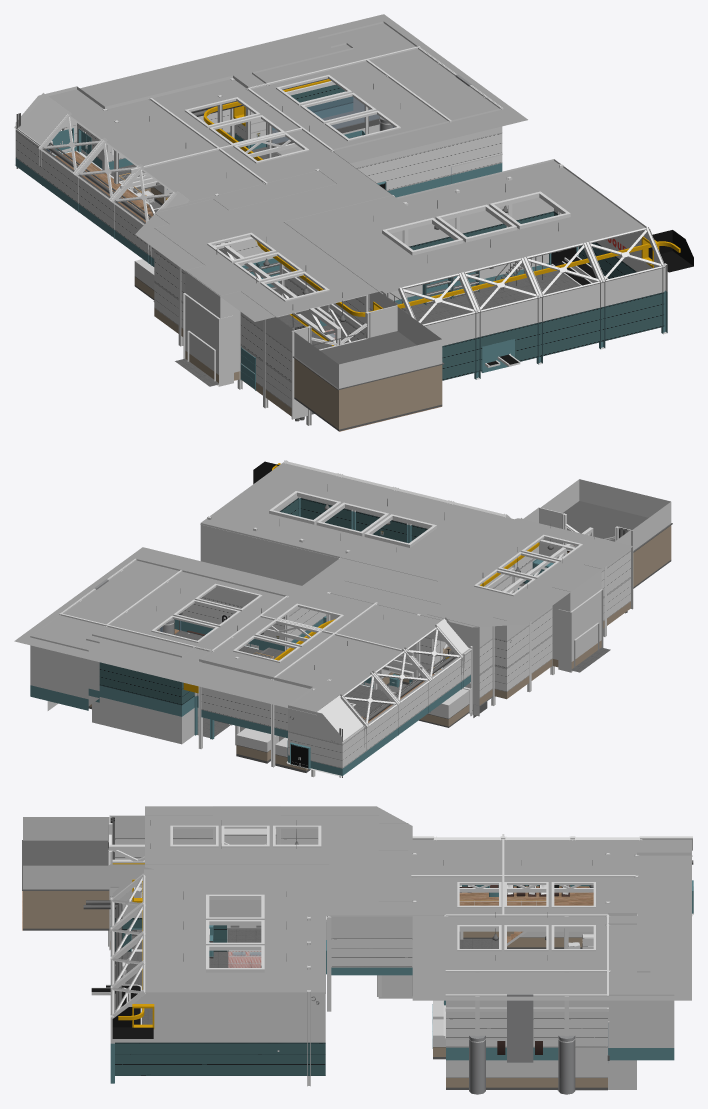
Rendered from Factory5.glb.
3 views of the same model, one above another, from view 1: azimuth 30°, elevation 25°; view 2: azimuth 150°, elevation 25°; view 3: azimuth 270°, elevation 25° (orthographic). The views are drawn at different scales.
Parts seen in each view (by area): view 1: Plane.011, Plane.014, Plane.025, Plane.023, Plane.018, Plane, Floorplan.003, Skylight.001, skylight.004, Skylight, Plane.024, Cube.061 (+20 smaller); view 2: Plane.011, Plane.025, Plane.019, Plane.018, Plane.014, Floorplan.002, Plane.023, Floorplan.003, Plane, Skylight, skylight.004, Cube.038 (+15 smaller); view 3: Plane.011, Plane.014, Plane.025, Plane, Plane.023, Plane.019, Plane.044, Skylight.001, Plane.018, Plane.016, skylight.004, Cube.064 (+25 smaller).
Part boxes in pixels (x1=…): Plane.011: x1=48, y1=14, x2=527, y2=321; Plane.014: x1=380, y1=159, x2=664, y2=380; Plane.025: x1=375, y1=161, x2=645, y2=293; Plane.023: x1=294, y1=307, x2=442, y2=431; Plane.018: x1=154, y1=213, x2=293, y2=416; Plane: x1=332, y1=47, x2=502, y2=197; Floorplan.003: x1=15, y1=127, x2=154, y2=266; Skylight.001: x1=398, y1=227, x2=665, y2=326; skylight.004: x1=382, y1=191, x2=570, y2=255; Skylight: x1=38, y1=114, x2=176, y2=225; Plane.024: x1=322, y1=266, x2=594, y2=330; Cube.061: x1=203, y1=79, x2=680, y2=316; Plane.011: x1=14, y1=518, x2=632, y2=715; Plane.025: x1=200, y1=463, x2=513, y2=558; Plane.019: x1=30, y1=614, x2=210, y2=744; Plane.018: x1=479, y1=530, x2=630, y2=705; Plane.014: x1=200, y1=460, x2=525, y2=585; Floorplan.002: x1=199, y1=649, x2=342, y2=775; Plane.023: x1=541, y1=479, x2=671, y2=588; Floorplan.003: x1=342, y1=648, x2=470, y2=775; Plane: x1=62, y1=559, x2=286, y2=651; Skylight: x1=340, y1=626, x2=463, y2=728; skylight.004: x1=269, y1=491, x2=436, y2=547; Cube.038: x1=330, y1=581, x2=479, y2=716; Plane.011: x1=145, y1=806, x2=691, y2=1000; Plane.014: x1=112, y1=867, x2=325, y2=1075; Plane.025: x1=144, y1=869, x2=325, y2=993; Plane: x1=446, y1=1000, x2=607, y2=1089; Plane.023: x1=23, y1=817, x2=109, y2=930; Plane.019: x1=608, y1=923, x2=674, y2=1089; Plane.044: x1=329, y1=915, x2=444, y2=975; Skylight.001: x1=110, y1=874, x2=145, y2=1016; Plane.018: x1=110, y1=806, x2=408, y2=887; Plane.016: x1=22, y1=840, x2=109, y2=890; skylight.004: x1=206, y1=894, x2=264, y2=972; Cube.064: x1=507, y1=994, x2=533, y2=1062.
Bounding box in the file's own units: 57.28 × 13.87 × 80.84.
Materials: 35 (14 with a texture image).
